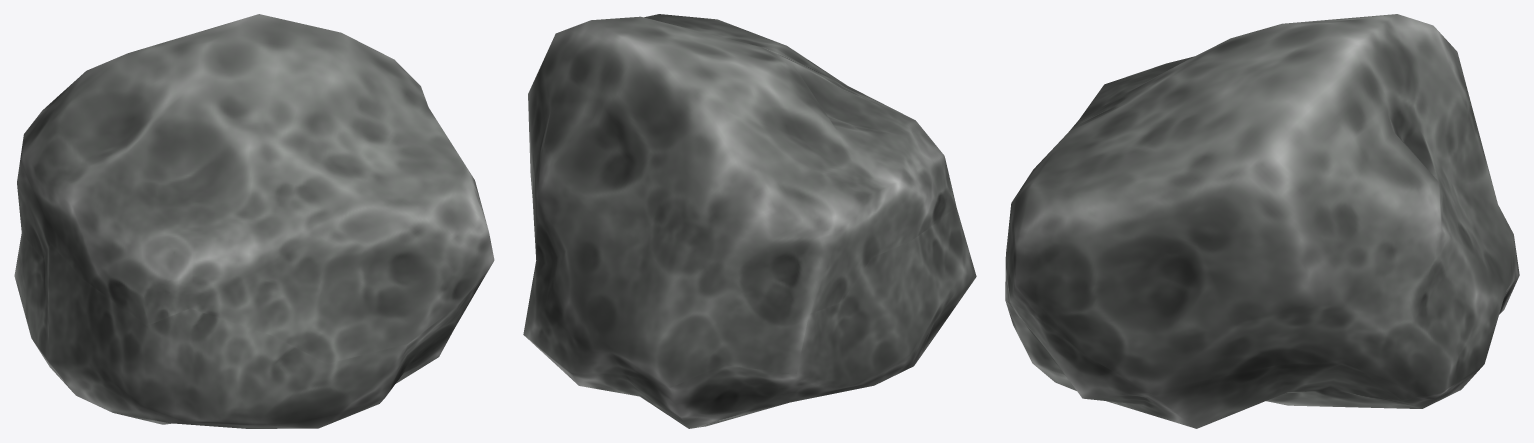
File: SmallMeteo3.fbx
The picture shows the model from 3 angles, left to right: view 1: azimuth 30°, elevation 25°; view 2: azimuth 150°, elevation 25°; view 3: azimuth 270°, elevation 25°; orthographic projection. The views are drawn at different scales.
Visible parts, largest first — view 1: Meteorite_02; view 2: Meteorite_02; view 3: Meteorite_02.
Part boxes in pixels (x1=…): Meteorite_02: x1=14, y1=14, x2=494, y2=428; Meteorite_02: x1=523, y1=14, x2=976, y2=428; Meteorite_02: x1=1005, y1=14, x2=1519, y2=428.
Size of the model in its own units: 569 by 492 by 611.
